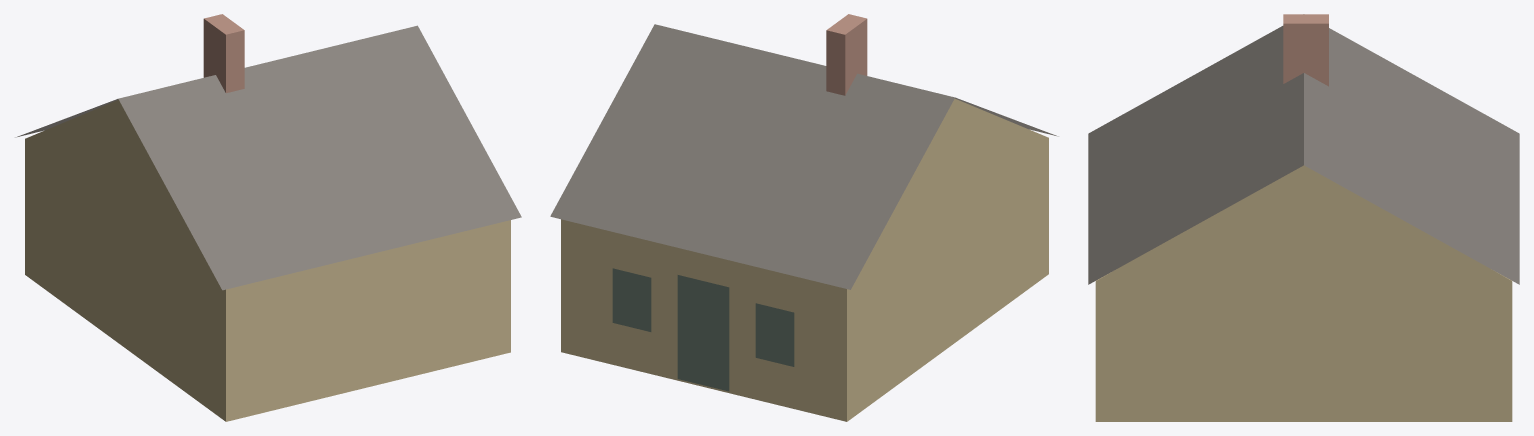
File: recon_1835_north_d1_054__recommended_1835 2.glb
The picture shows the model from 3 angles, left to right: view 1: azimuth 30°, elevation 25°; view 2: azimuth 150°, elevation 25°; view 3: azimuth 270°, elevation 25°; orthographic projection. The views are drawn at different scales.
Visible parts, largest first — view 1: recon_1835_north_d1_054__recommended_1835; view 2: recon_1835_north_d1_054__recommended_1835; view 3: recon_1835_north_d1_054__recommended_1835.
Part boxes in pixels (box(x1,y1,x2,y2)): recon_1835_north_d1_054__recommended_1835: box(15, 14, 521, 421); recon_1835_north_d1_054__recommended_1835: box(550, 14, 1058, 421); recon_1835_north_d1_054__recommended_1835: box(1088, 14, 1519, 421).
Bounding box in the file's own units: 5.77 × 5.5 × 6.95.
